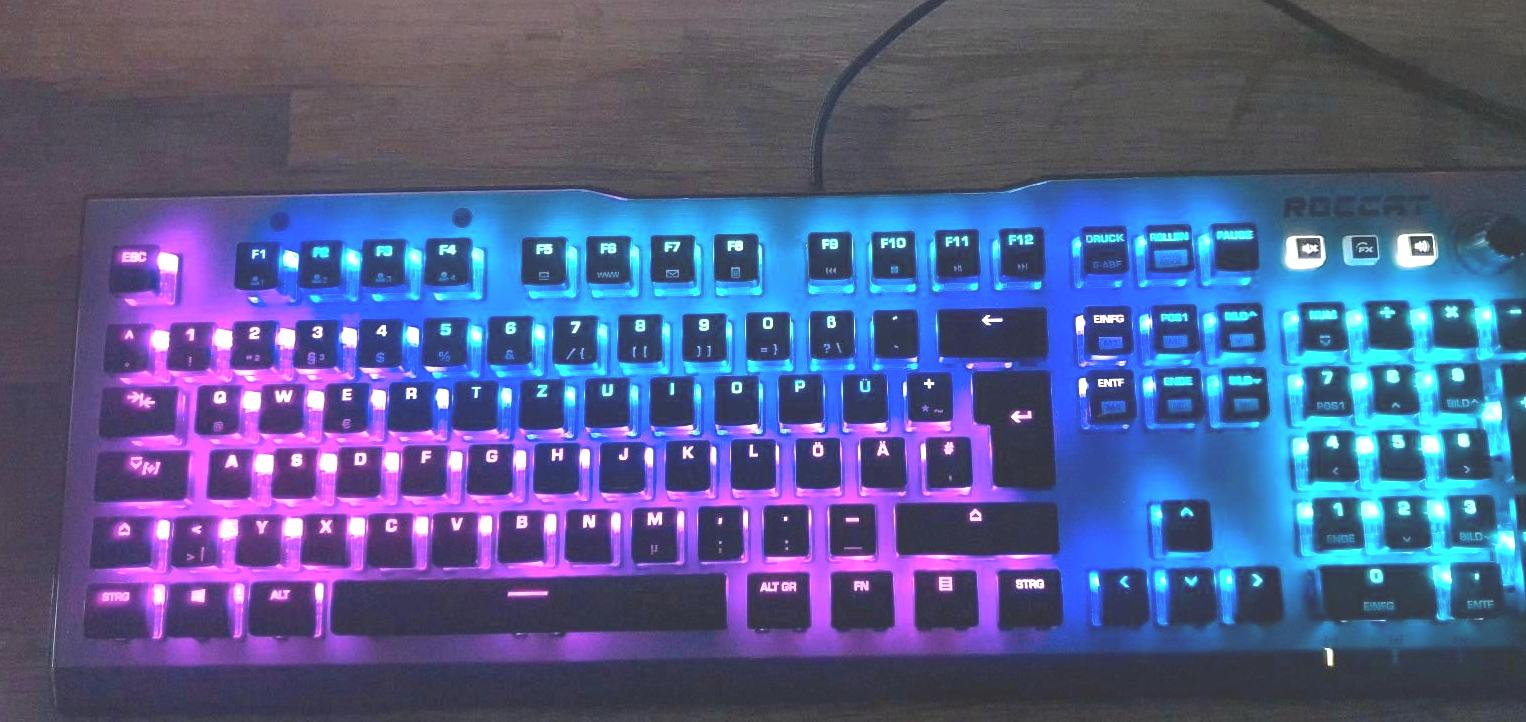0: (742, 306, 790, 360)
1: (163, 315, 211, 368)
2: (228, 314, 273, 366)
3: (291, 314, 334, 366)
4: (355, 313, 402, 365)
5: (419, 312, 467, 365)
6: (484, 310, 533, 363)
7: (549, 310, 597, 365)
8: (614, 309, 662, 363)
9: (678, 308, 727, 362)
a: (204, 444, 250, 495)
accent: (869, 304, 916, 355)
ae: (855, 431, 904, 485)
alt-left: (245, 575, 316, 634)
altgr-right: (742, 566, 809, 626)
b: (495, 504, 545, 559)
c: (363, 507, 413, 564)
caret: (101, 320, 149, 368)
comma: (693, 499, 743, 557)
d: (332, 442, 380, 493)
del: (934, 304, 1044, 354)
e: (321, 377, 366, 430)
enter: (968, 363, 1053, 488)
f: (399, 440, 445, 491)
g: (464, 440, 511, 491)
h: (530, 438, 578, 490)
hash: (920, 431, 969, 485)
i: (646, 372, 693, 421)
j: (596, 437, 644, 489)
k: (662, 435, 711, 489)
keyboard: (59, 181, 1526, 684)
l: (727, 434, 775, 486)
less: (168, 511, 215, 565)
m: (628, 501, 679, 561)
minus: (824, 497, 873, 551)
n: (561, 503, 615, 560)
o: (711, 371, 759, 422)
oe: (791, 433, 840, 486)
p: (775, 369, 822, 421)
plus: (905, 366, 950, 418)
point: (759, 498, 808, 553)
q: (191, 379, 239, 432)
r: (385, 376, 431, 427)
s: (268, 444, 313, 495)
shift-left: (87, 512, 153, 564)
shift-lock: (91, 446, 190, 497)
shift-right: (892, 497, 1054, 551)
space: (324, 570, 727, 632)
ss: (805, 305, 853, 358)
strg-left: (79, 580, 149, 635)
strg-right: (993, 563, 1062, 625)
t: (451, 376, 495, 425)
tab: (96, 381, 176, 432)
u: (581, 373, 629, 424)
ue: (839, 367, 886, 421)
v: (428, 505, 478, 564)
w: (256, 378, 302, 430)
x: (298, 508, 347, 562)
y: (232, 511, 277, 563)
z: (517, 374, 562, 425)
